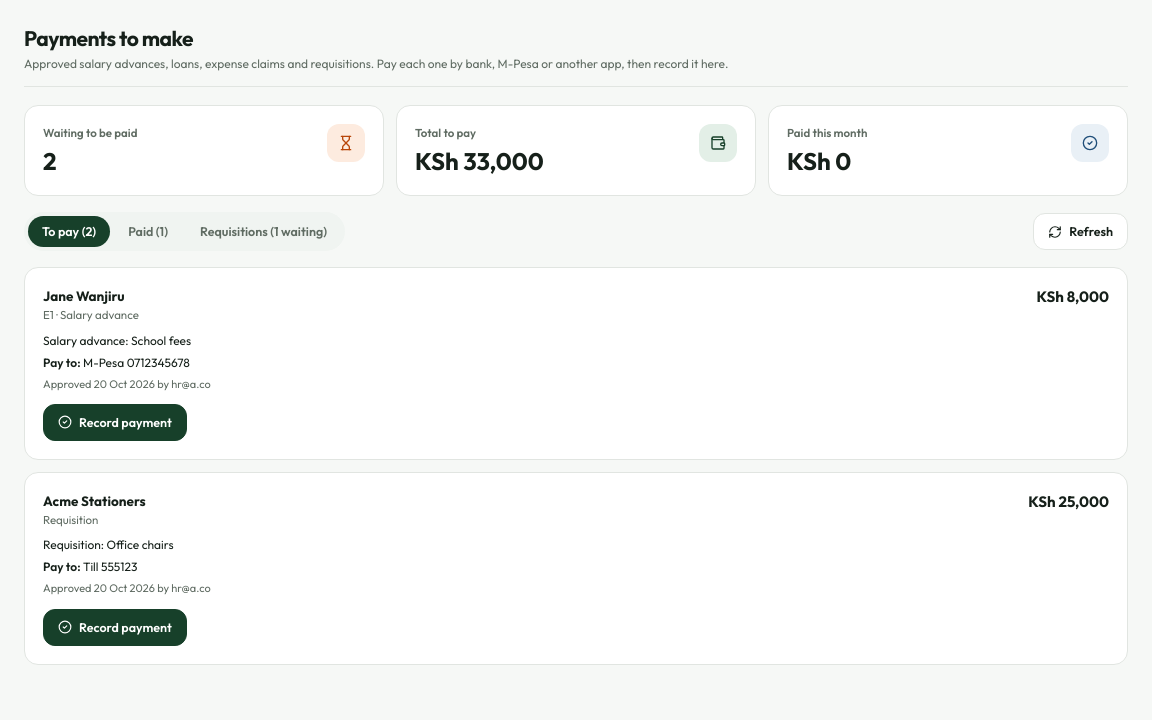
finance: what to pay › records a payment: a reference is needed unless it was cash
Later steps or results of the test are not shown.
Click the button "Record payment" below "M-Pesa 0712345678" at {"x": 115, "y": 422}, box [43,404,187,441]
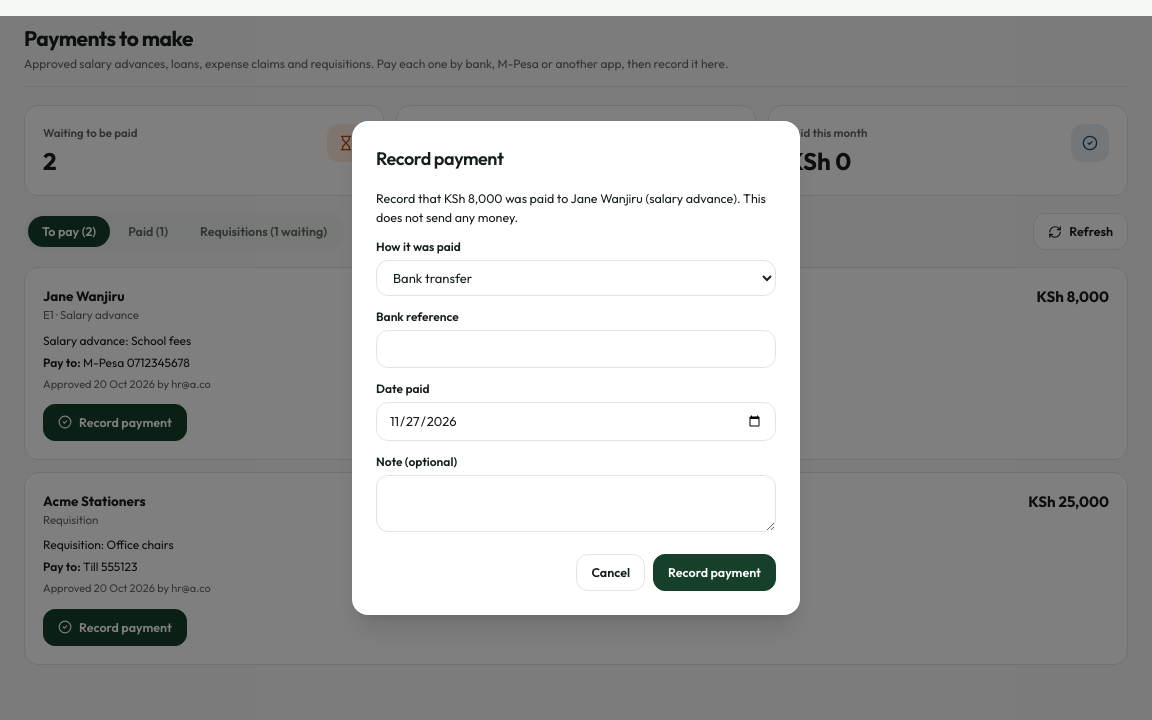
Select "M-Pesa" in the dropdown at {"x": 576, "y": 278}, box [376,260,776,296]
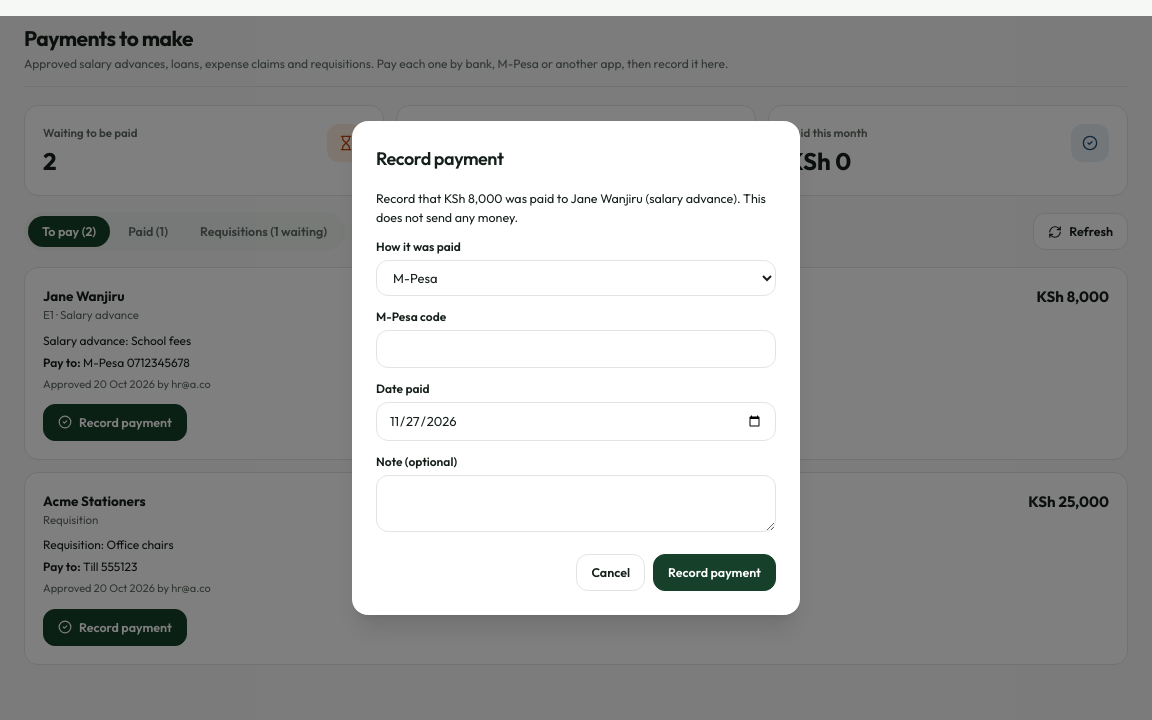
Click the button "Record payment" at {"x": 715, "y": 573}, box [653,554,776,591]
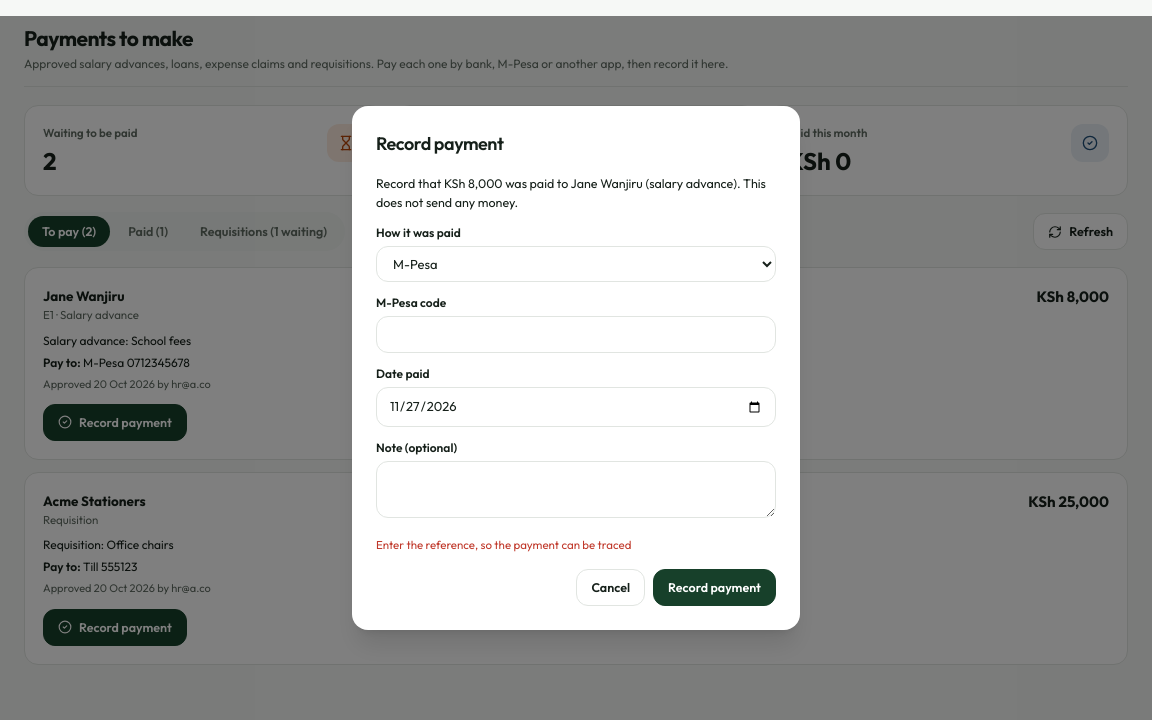
Expected: the message shows "reference", [376,537,631,552]
